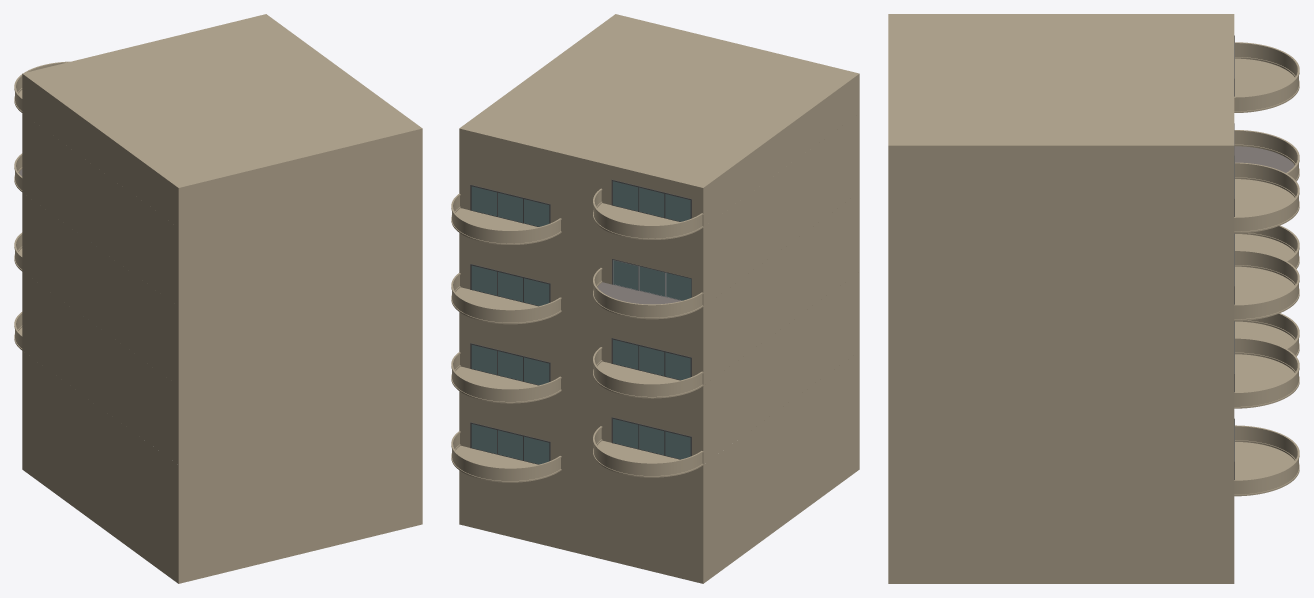
File: apartment.fbx
3 views of the same model, side by side, from view 1: azimuth 30°, elevation 25°; view 2: azimuth 150°, elevation 25°; view 3: azimuth 270°, elevation 25° (orthographic). The views are drawn at different scales.
Parts seen in each view (by area): view 1: Building_Floor1, Building_Floor, Building_Floor3, Building_Floor6, Building_Floor4, Building_Floor7, Building_Floor5, Building_Floor2, Wall; view 2: Building_Floor1, Building_Floor, Building_Floor6, Building_Floor3, Building_Floor7, Building_Floor5, Building_Floor4, Building_Floor2, Wall, Wall_Balcony, Wall3, Floor6 (+25 smaller); view 3: Building_Floor1, Building_Floor, Building_Floor7, Building_Floor2, Building_Floor5, Building_Floor4, Building_Floor6, Building_Floor3, Wall, Floor6, Wall3.
Part boxes in pixels (<box>): Building_Floor1: <box>14,14,422,227</box>; Building_Floor: <box>22,390,422,583</box>; Building_Floor3: <box>14,232,422,385</box>; Building_Floor6: <box>14,311,422,464</box>; Building_Floor4: <box>22,192,422,346</box>; Building_Floor7: <box>22,351,422,504</box>; Building_Floor5: <box>22,272,422,425</box>; Building_Floor2: <box>22,113,422,267</box>; Wall: <box>22,153,422,306</box>; Building_Floor1: <box>459,14,859,239</box>; Building_Floor: <box>459,390,859,583</box>; Building_Floor6: <box>459,311,859,477</box>; Building_Floor3: <box>459,232,859,398</box>; Building_Floor7: <box>451,351,859,504</box>; Building_Floor5: <box>451,272,859,425</box>; Building_Floor4: <box>451,192,859,346</box>; Building_Floor2: <box>451,113,859,266</box>; Wall: <box>459,153,859,306</box>; Wall_Balcony: <box>602,242,701,297</box>; Wall3: <box>593,270,702,317</box>; Floor6: <box>597,282,680,304</box>; Building_Floor1: <box>888,14,1299,189</box>; Building_Floor: <box>888,496,1234,583</box>; Building_Floor7: <box>888,425,1299,496</box>; Building_Floor2: <box>888,162,1299,233</box>; Building_Floor5: <box>888,338,1299,408</box>; Building_Floor4: <box>888,250,1299,320</box>; Building_Floor6: <box>888,313,1299,452</box>; Building_Floor3: <box>888,225,1299,364</box>; Wall: <box>888,233,1234,277</box>; Floor6: <box>1234,146,1294,172</box>; Wall3: <box>1234,132,1298,180</box>.
Size of the model in its own units: 14.84 by 22.99 by 19.58.
